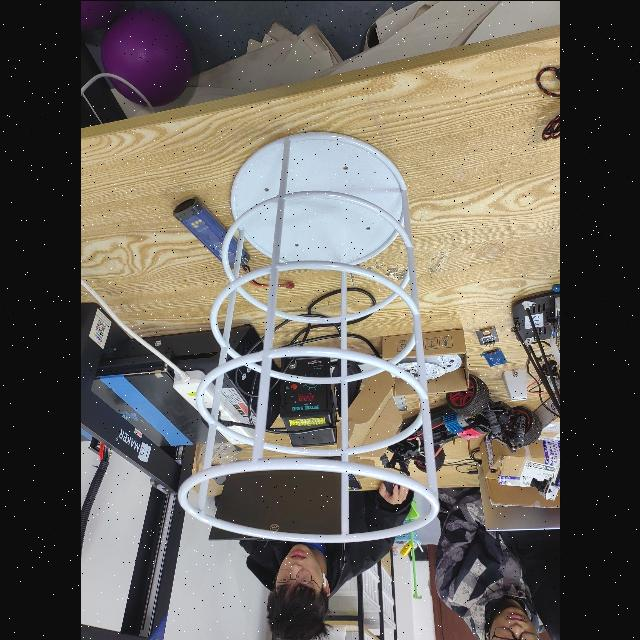S: (173, 125, 447, 550)
